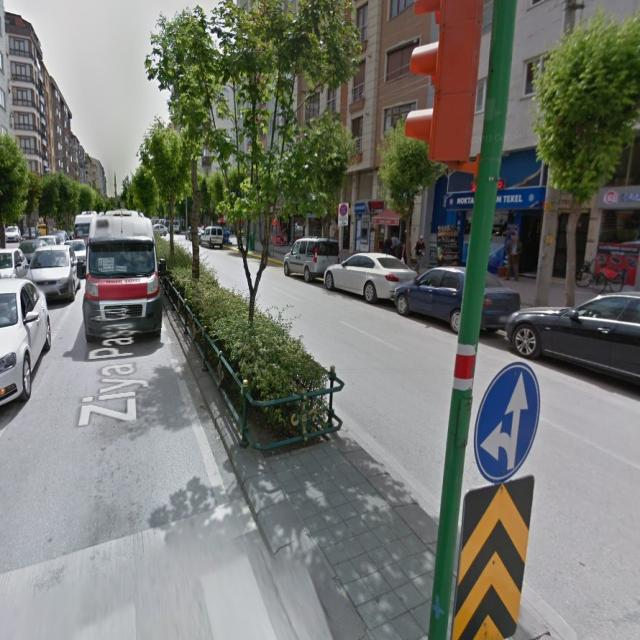ilerisol: (474, 362, 540, 481)
